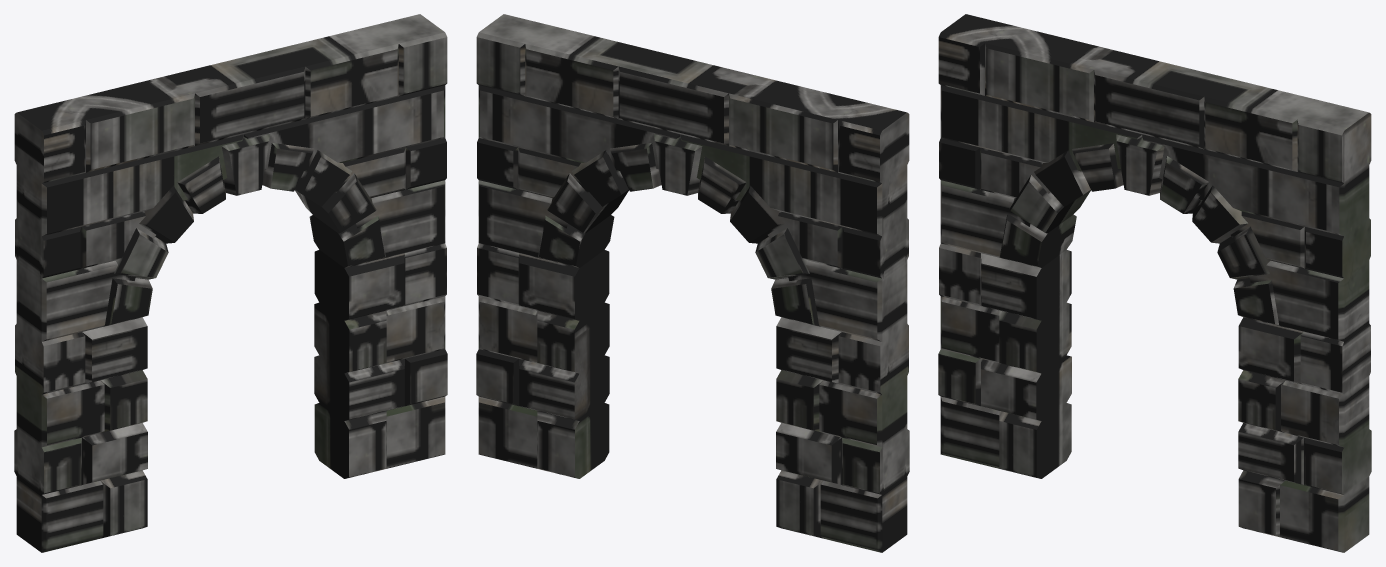
Rendered from mur_arche.fbx.
3 renders of one model, left to right at view 1: azimuth 30°, elevation 25°; view 2: azimuth 150°, elevation 25°; view 3: azimuth 330°, elevation 25°, orthographic.
Visible parts, largest first — view 1: mur_arche; view 2: mur_arche; view 3: mur_arche.
Part boxes in pixels (<box>): mur_arche: <box>14,14,447,552</box>; mur_arche: <box>476,14,909,552</box>; mur_arche: <box>938,14,1371,552</box>.
Size of the model in its own units: 4 by 4 by 0.6233.
1 material, 1 textured.
